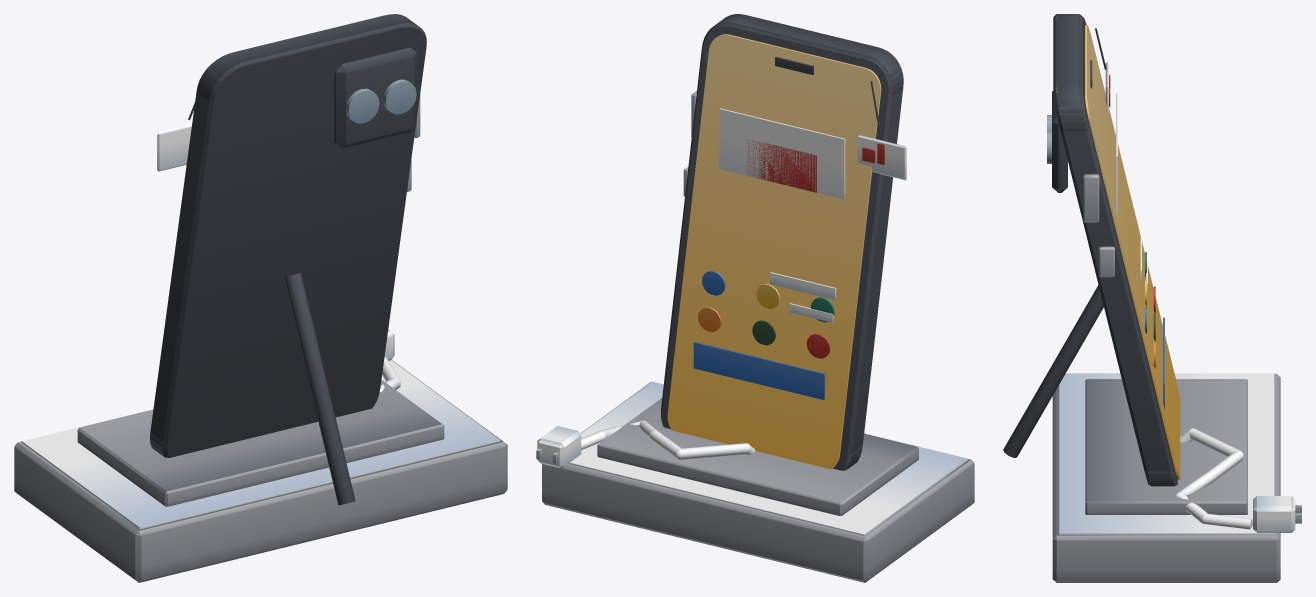
File: ck_meme_phone_1pc.fbx
3 renders of one model, left to right at view 1: azimuth 30°, elevation 25°; view 2: azimuth 150°, elevation 25°; view 3: azimuth 270°, elevation 25°, orthographic. The views are drawn at different scales.
Parts seen in each view (by area): view 1: ck_meme_phone_1pc; view 2: ck_meme_phone_1pc; view 3: ck_meme_phone_1pc.
Part boxes in pixels (x1,y1,x2,y2): ck_meme_phone_1pc: (14, 14, 507, 582); ck_meme_phone_1pc: (536, 14, 974, 582); ck_meme_phone_1pc: (1003, 14, 1301, 582).
Bounding box in the file's own units: 1203 × 1530 × 919.
